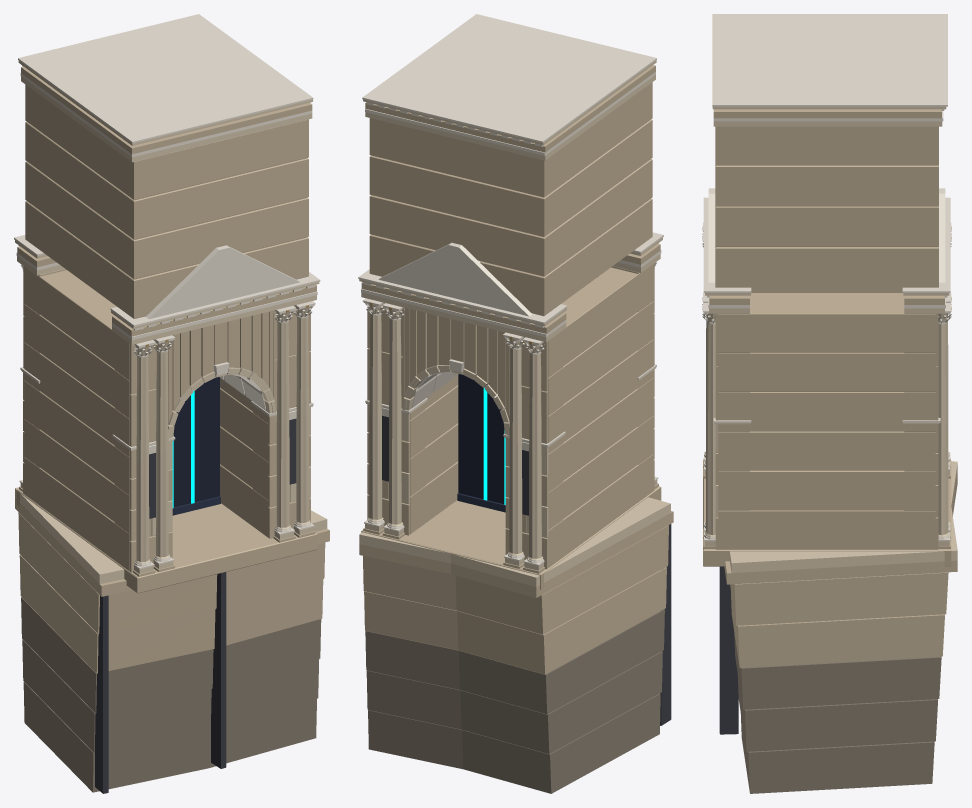
Rendered from UMOD_04_Cardinal_Triumphal_Gate_Pavilion.glb.
The picture shows the model from 3 angles, left to right: view 1: azimuth 30°, elevation 25°; view 2: azimuth 150°, elevation 25°; view 3: azimuth 270°, elevation 25°; orthographic projection. The views are drawn at different scales.
Parts seen in each view (by area): view 1: UMOD_04_Cardinal_Triumphal_Gate_Pavilion; view 2: UMOD_04_Cardinal_Triumphal_Gate_Pavilion; view 3: UMOD_04_Cardinal_Triumphal_Gate_Pavilion.
Part boxes in pixels (bbox=[...]): UMOD_04_Cardinal_Triumphal_Gate_Pavilion: bbox=[14, 14, 329, 793]; UMOD_04_Cardinal_Triumphal_Gate_Pavilion: bbox=[358, 14, 673, 793]; UMOD_04_Cardinal_Triumphal_Gate_Pavilion: bbox=[702, 14, 957, 793].
Size of the model in its own units: 34.98 by 96.44 by 32.93.
